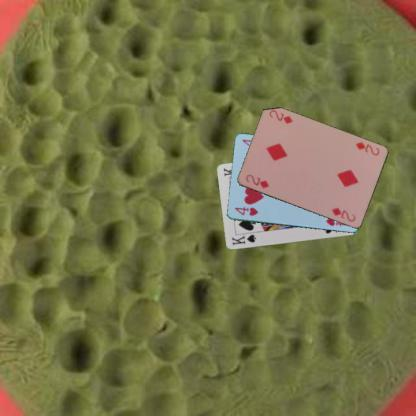2d: (352, 139, 381, 157), (243, 172, 270, 190)
4h: (232, 205, 259, 217)
Ks: (229, 232, 257, 247)
